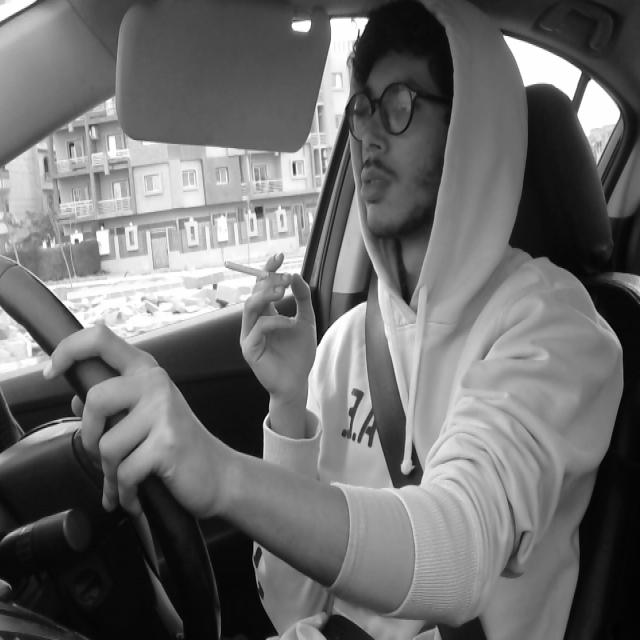smoking: (220, 255, 290, 285)
